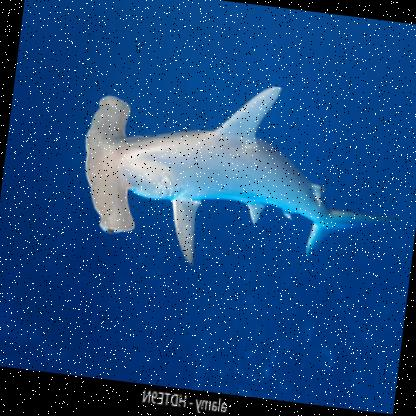hammerhead_Shark: (66, 26, 402, 302)
